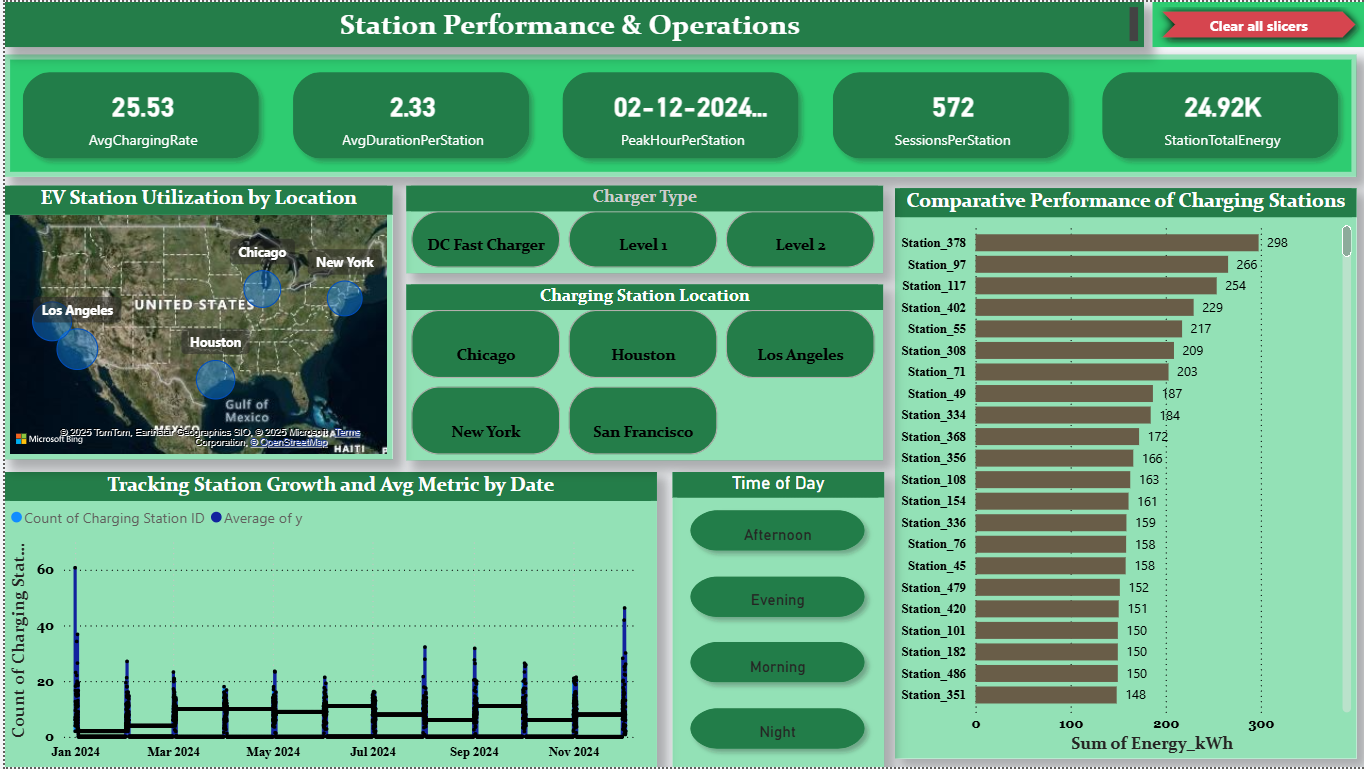

The dashboard page shown, as its layout file describes it:
{"tool":"powerbi","page":{"name":"Station Performance & Operations","canvas":[1280,720],"ordinal":1},"visuals":[{"type":"cardVisual","fields":{"Data":["measure Table.AvgChargingRate","measure Table.AvgDurationPerStation","measure Table.PeakHourPerStation","measure Table.SessionsPerStation","measure Table.StationTotalEnergy"]},"box":[0,48.9,1272.2,115.6],"z":0},{"type":"lineChart","title":"Tracking Station Growth and Avg Metric by Date","fields":{"Category":["dashboard_station_hourly.ds"],"Y":["CountNonNull(dashboard_sessions.Charging Station ID)","Avg(dashboard_station_hourly.y)"]},"box":[0,442.2,613.3,277.8],"z":1000},{"type":"map","title":"EV Station Utilization by Location","fields":{"Size":["Sum(dashboard_sessions.Energy_kWh)"],"Category":["dashboard_sessions.Charging Station Location"]},"box":[0,173.3,364.4,257.8],"z":2000},{"type":"barChart","title":"Comparative Performance of Charging Stations","fields":{"Category":["dashboard_sessions.Charging Station ID"],"Y":["Sum(dashboard_sessions.Energy_kWh)"]},"box":[837.8,175.6,434.4,536.7],"z":3000},{"type":"advancedSlicerVisual","fields":{"Values":["dashboard_sessions.Charger Type"]},"box":[377.8,173.3,448.9,82.2],"z":4000},{"type":"textbox","box":[0,0,1071.8,42.4],"z":5000},{"type":"advancedSlicerVisual","fields":{"Values":["dashboard_sessions.Charging Station Location"]},"box":[377.8,265.6,448.9,165.6],"z":6000},{"type":"advancedSlicerVisual","fields":{"Values":["dashboard_sessions.Time of Day"]},"box":[627.8,442.2,198.9,277.8],"z":7000},{"type":"actionButton","box":[1080,0,200,50.6],"z":7001}]}

Visuals, with their boxes in screenshot pixels (x1, y1, x2, y2), scaled from the page's 1280x720 canvas onto the 1364x769 screenshot:
cardVisual - measure Table.AvgChargingRate x measure Table.AvgDurationPerStation: 0, 52, 1356, 176
"Tracking Station Growth and Avg Metric by Date" lineChart: 0, 472, 654, 768
"EV Station Utilization by Location" map: 0, 185, 388, 460
"Comparative Performance of Charging Stations" barChart: 893, 188, 1356, 761
advancedSlicerVisual - dashboard_sessions.Charger Type: 403, 185, 881, 273
textbox: 0, 0, 1142, 45
advancedSlicerVisual - dashboard_sessions.Charging Station Location: 403, 284, 881, 461
advancedSlicerVisual - dashboard_sessions.Time of Day: 669, 472, 881, 768
actionButton: 1151, 0, 1363, 54
